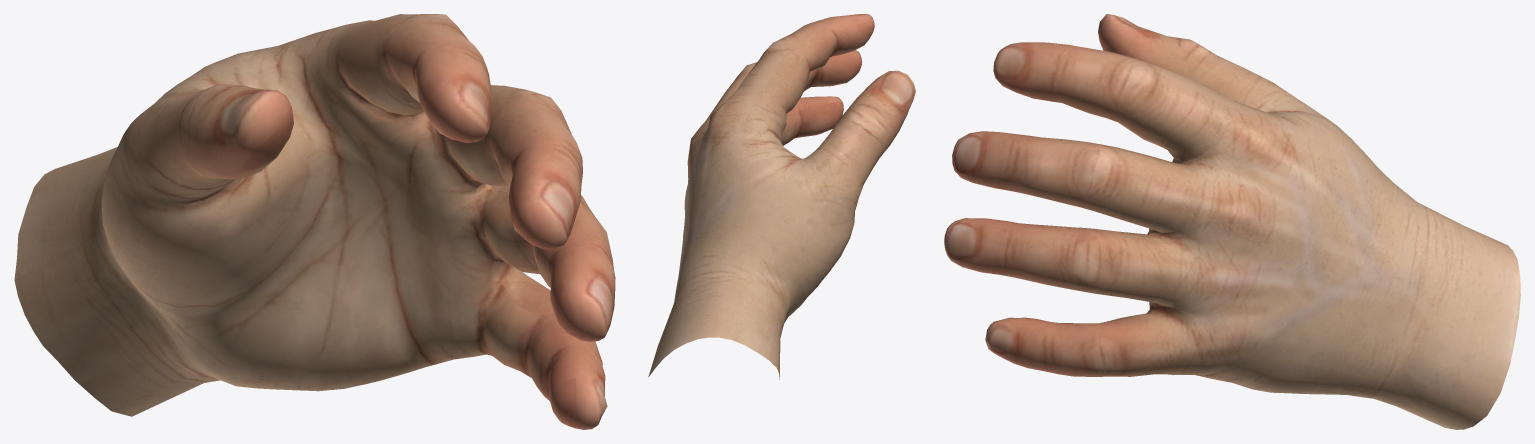
Rendered from hand.glb.
The picture shows the model from 3 angles, left to right: view 1: azimuth 30°, elevation 25°; view 2: azimuth 150°, elevation 25°; view 3: azimuth 270°, elevation 25°; orthographic projection. The views are drawn at different scales.
Visible parts, largest first — view 1: handlow; view 2: handlow; view 3: handlow.
Part boxes in pixels (x1,y1,x2,y2): handlow: (14,14,615,429); handlow: (648,14,915,379); handlow: (944,14,1520,429).
Bounding box in the file's own units: 11.2 × 16.36 × 21.87.
Materials: 1 (1 with a texture image).
